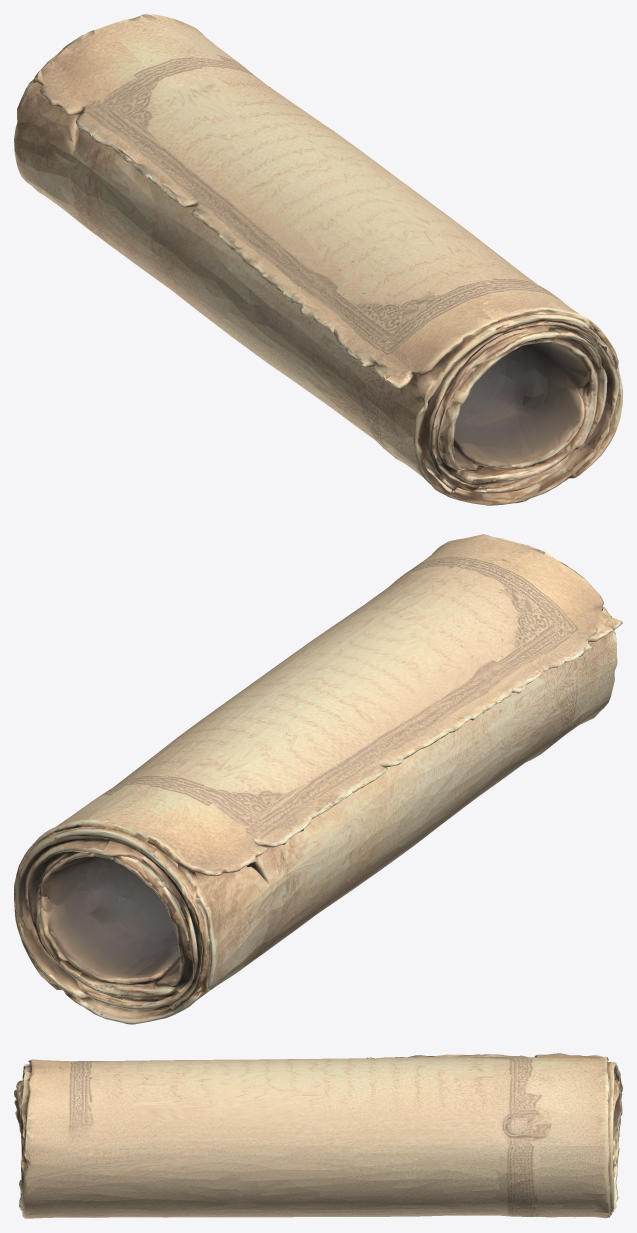
The model's file is Scroll-opt.fbx.
3 views of the same model, one above another, from view 1: azimuth 30°, elevation 25°; view 2: azimuth 150°, elevation 25°; view 3: azimuth 270°, elevation 25° (orthographic). The views are drawn at different scales.
Parts seen in each view (by area): view 1: tripo_node_97413fb3; view 2: tripo_node_97413fb3; view 3: tripo_node_97413fb3.
Boxes of the visible parts, left/top/right/bottom form: tripo_node_97413fb3: left=14, top=14, right=622, bottom=505; tripo_node_97413fb3: left=14, top=534, right=622, bottom=1024; tripo_node_97413fb3: left=14, top=1053, right=622, bottom=1218.
Size of the model in its own units: 30.36 by 25.02 by 97.91.
Materials: 1 (1 with a texture image).
